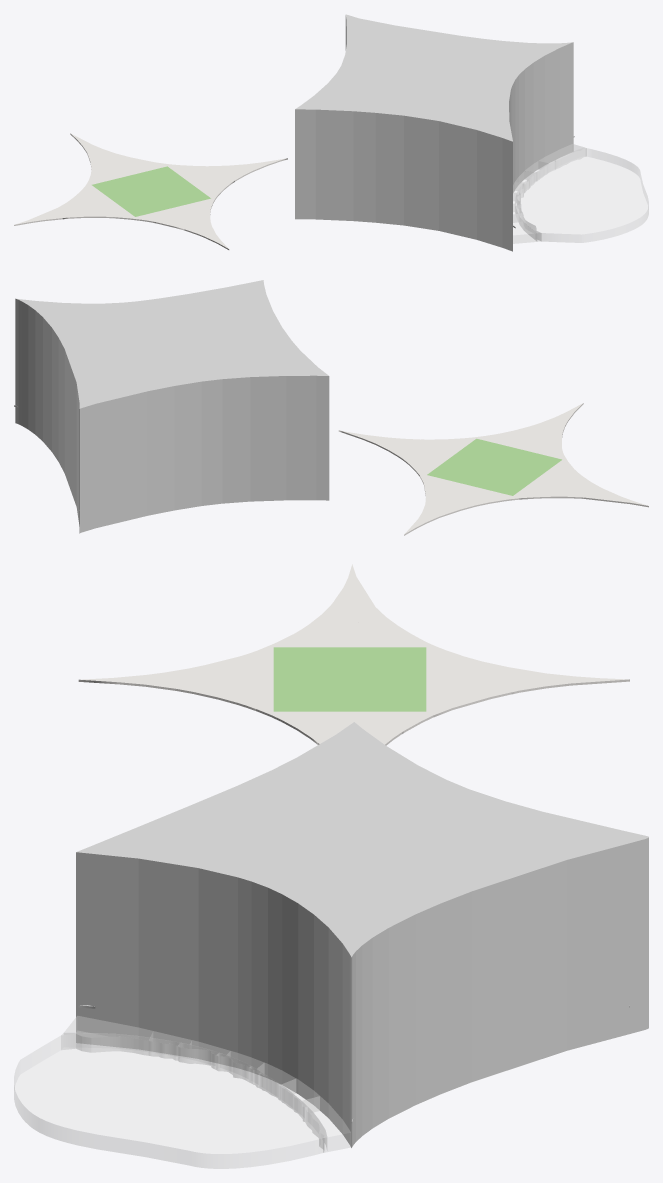
File: piece_decoupe_v05.glb
3 renders of one model, top to bottom at view 1: azimuth 30°, elevation 25°; view 2: azimuth 150°, elevation 25°; view 3: azimuth 270°, elevation 25°, orthographic. The views are drawn at different scales.
Parts seen in each view (by area): view 1: surface_drop, piece1, couleurEtoile, papier_extrusion17, papier_extrusion1, papier_extrusion13, papier_extrusion19, papier_extrusion20, papier_extrusion16, fin, papier_extrusion4, papier_extrusion5 (+4 smaller); view 2: surface_drop, couleurEtoile, papier_extrusion17, papier_extrusion19, papier_extrusion1, papier_extrusion13, papier_extrusion18, papier_extrusion20, papier_extrusion5, papier_extrusion3, papier_extrusion4, papier_extrusion16 (+2 smaller); view 3: surface_drop, piece1, couleurEtoile, papier_extrusion17, papier_extrusion13, papier_extrusion19, papier_extrusion4, papier_extrusion3, extrusion8, debut, papier_extrusion18, papier_extrusion20 (+6 smaller).
Part boxes in pixels (<box>): surface_drop: <box>295,14,573,251</box>; piece1: <box>517,148,648,242</box>; couleurEtoile: <box>92,166,210,216</box>; papier_extrusion17: <box>70,133,119,172</box>; papier_extrusion1: <box>212,158,287,181</box>; papier_extrusion13: <box>118,154,168,175</box>; papier_extrusion19: <box>58,186,106,207</box>; papier_extrusion20: <box>14,206,90,225</box>; papier_extrusion16: <box>62,206,125,219</box>; fin: <box>513,214,536,243</box>; papier_extrusion4: <box>184,220,229,249</box>; papier_extrusion5: <box>186,165,229,181</box>; surface_drop: <box>15,280,329,533</box>; couleurEtoile: <box>427,438,561,495</box>; papier_extrusion17: <box>404,492,466,535</box>; papier_extrusion19: <box>517,483,583,499</box>; papier_extrusion1: <box>338,430,434,451</box>; papier_extrusion13: <box>420,475,467,502</box>; papier_extrusion18: <box>460,489,519,510</box>; papier_extrusion20: <box>563,484,648,507</box>; papier_extrusion5: <box>388,449,448,464</box>; papier_extrusion3: <box>487,423,539,443</box>; papier_extrusion4: <box>539,403,583,436</box>; papier_extrusion16: <box>549,467,604,489</box>; surface_drop: <box>76,722,648,1147</box>; piece1: <box>14,1034,323,1168</box>; couleurEtoile: <box>273,647,426,711</box>; papier_extrusion17: <box>449,667,629,694</box>; papier_extrusion13: <box>424,676,511,717</box>; papier_extrusion19: <box>350,607,426,647</box>; papier_extrusion4: <box>78,668,219,690</box>; papier_extrusion3: <box>176,678,273,710</box>; extrusion8: <box>61,1032,149,1055</box>; debut: <box>302,1096,350,1151</box>; papier_extrusion18: <box>414,642,506,675</box>; papier_extrusion20: <box>334,564,375,628</box>.
Size of the model in its own units: 0.5002 by 0.0966 by 0.2713.
